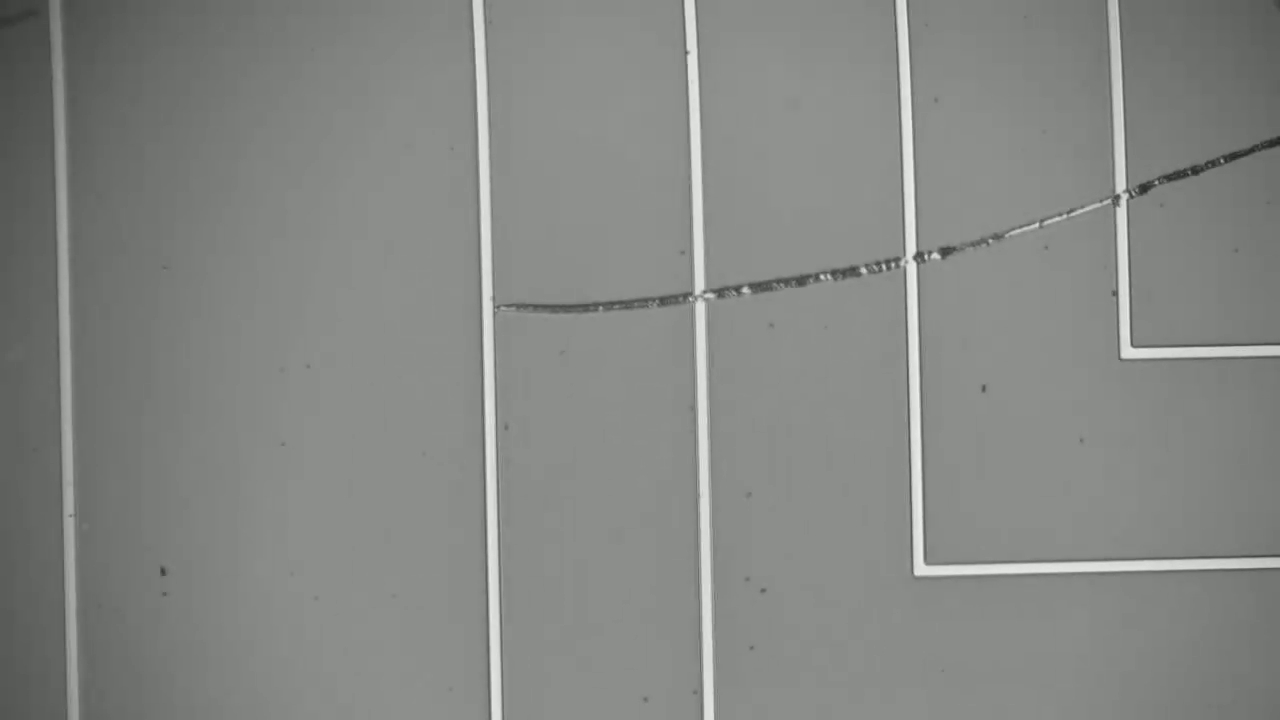scratch: (513, 109, 1271, 348)
